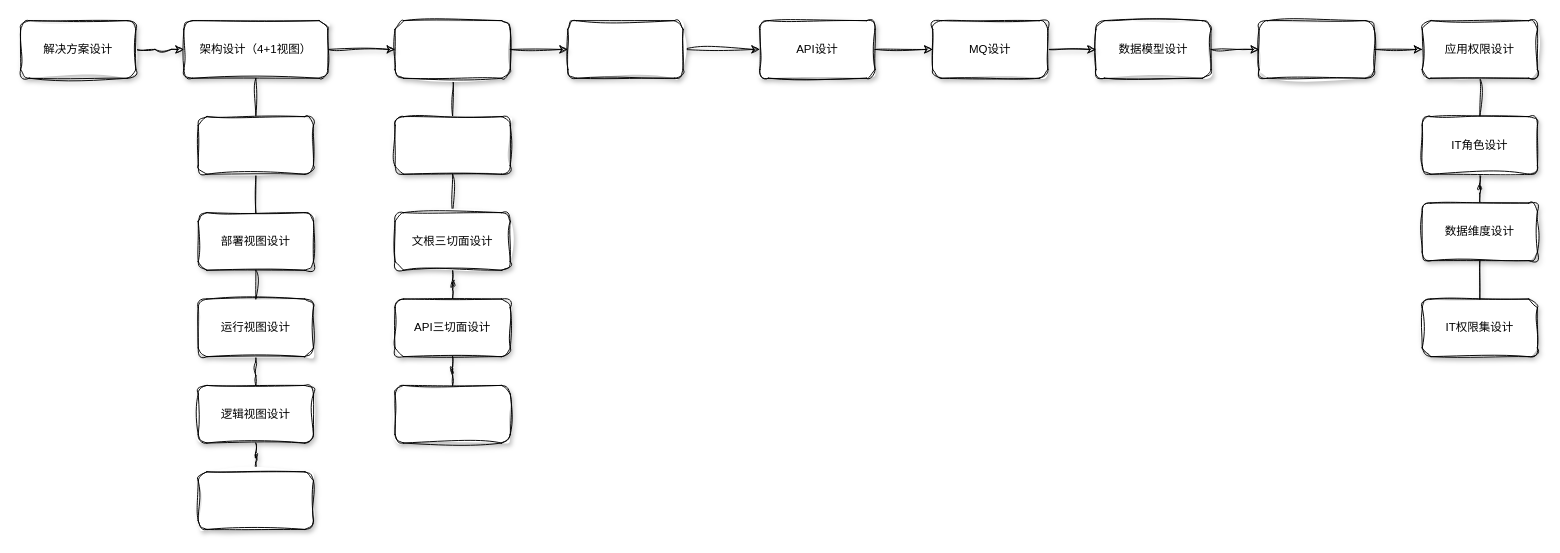
Some shapes in this 1560 by 553 pixel diagram are drawn without their labels. The shapes that lost their labels are listed below. From the top down, each one's centre as x and y in pixels, then its label:
At pixel 453 50: "三切面设计".
At pixel 626 50: "特性设计".
At pixel 1317 50: "页面设计".
At pixel 256 146: "开发视图设计".
At pixel 453 146: "域名三切面设计".
At pixel 453 415: "IP端口三切面设计".
At pixel 256 501: "用例视图设计".
